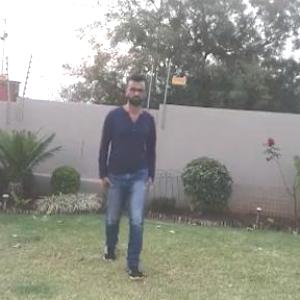follow: (103, 79, 154, 268)
